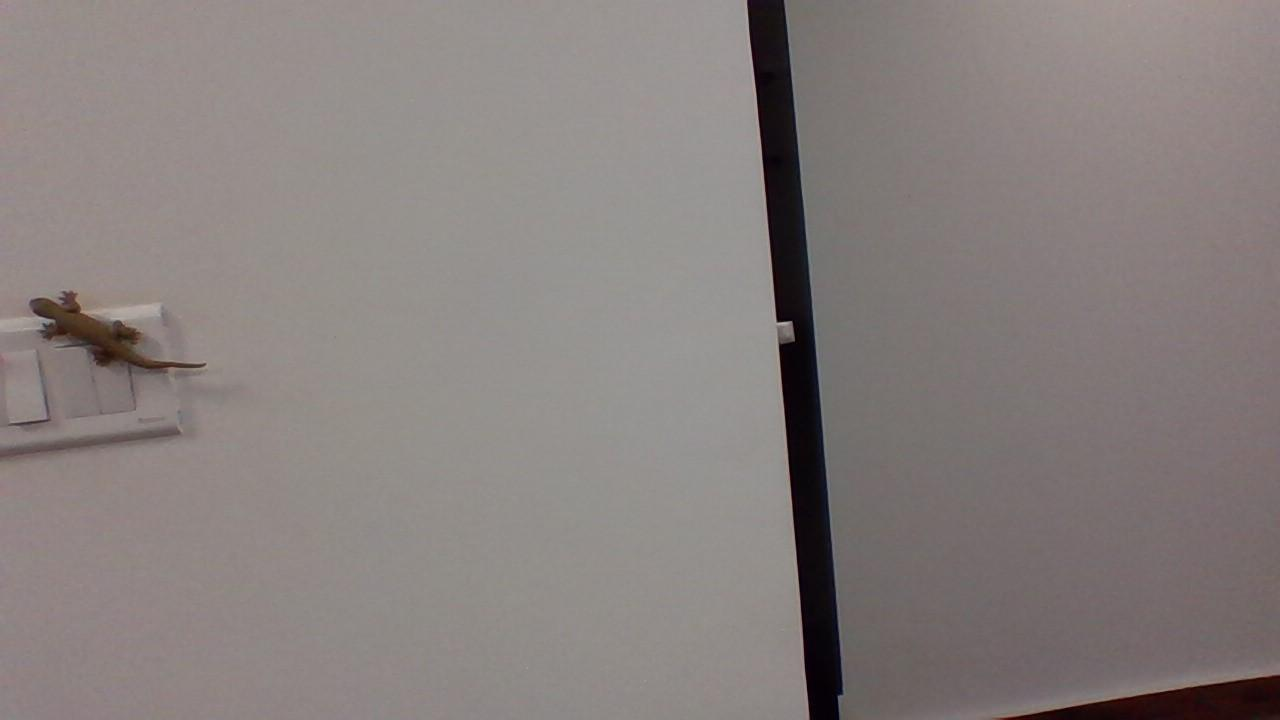lizard: (29, 275, 212, 378)
